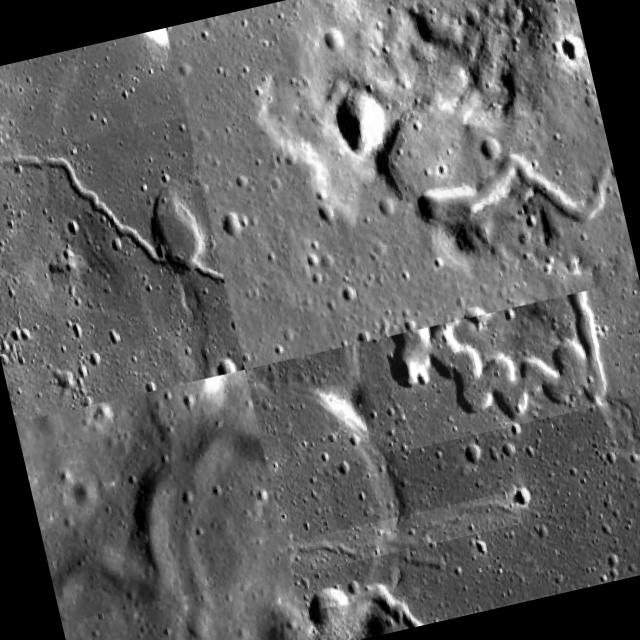rille: (323, 389, 640, 637), (23, 404, 290, 623), (0, 116, 231, 369), (380, 290, 614, 450), (405, 128, 622, 260), (299, 490, 523, 572)
